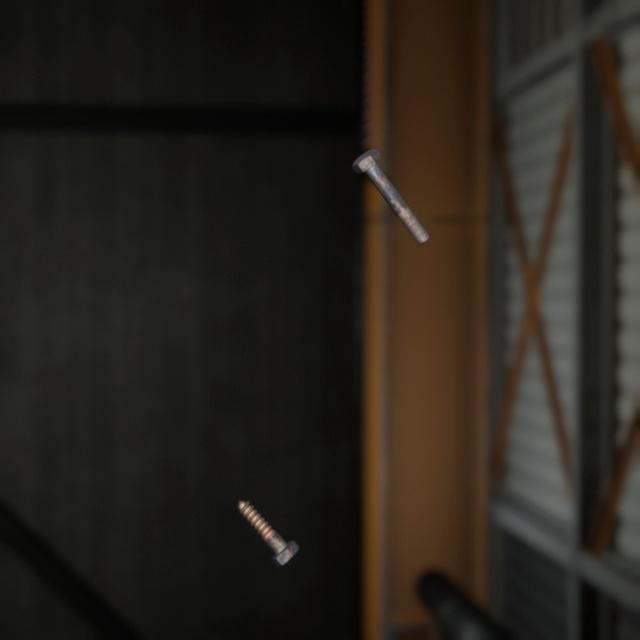bolt: (347, 130, 434, 235), (233, 473, 304, 548)
